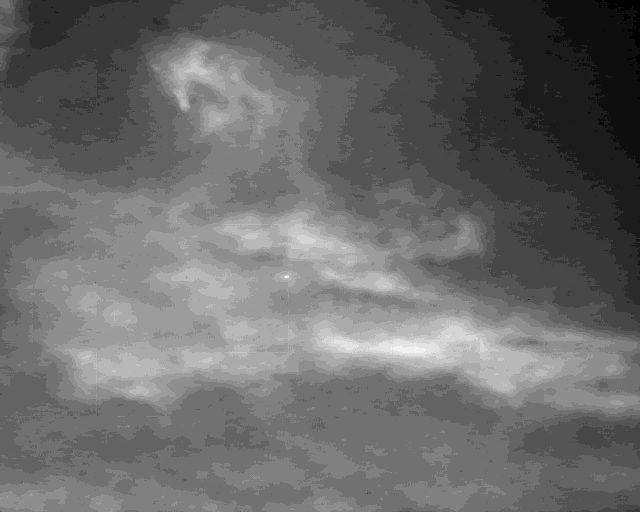Target: (285, 275, 289, 278)
